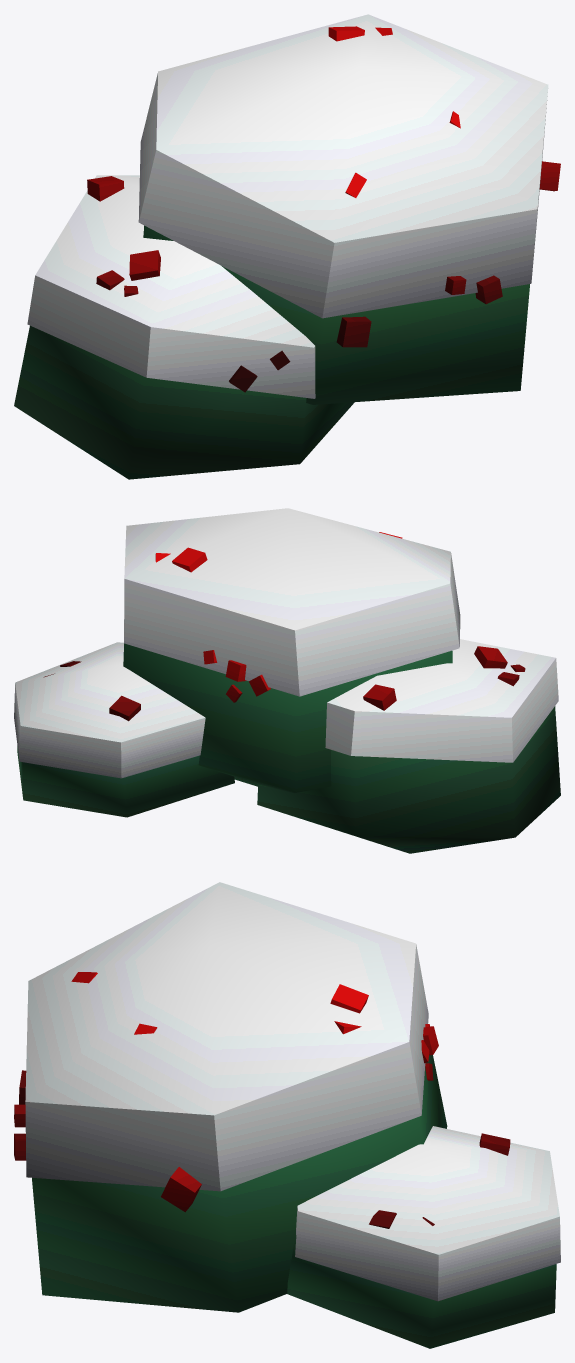
Rendered from SM_Bush_Flower.fbx.
3 views of the same model, one above another, from view 1: azimuth 30°, elevation 25°; view 2: azimuth 150°, elevation 25°; view 3: azimuth 270°, elevation 25° (orthographic). The views are drawn at different scales.
Parts seen in each view (by area): view 1: Bush_L_Snow, Bush_Flower_L; view 2: Bush_L_Snow, Bush_Flower_L; view 3: Bush_L_Snow, Bush_Flower_L.
Part boxes in pixels (bbox=[...]): Bush_L_Snow: bbox=[27, 14, 548, 398]; Bush_Flower_L: bbox=[14, 26, 560, 479]; Bush_L_Snow: bbox=[14, 508, 558, 778]; Bush_Flower_L: bbox=[17, 532, 560, 853]; Bush_L_Snow: bbox=[25, 882, 560, 1301]; Bush_Flower_L: bbox=[14, 972, 556, 1348].
Size of the model in its own units: 6.1 by 3.96 by 5.11.
